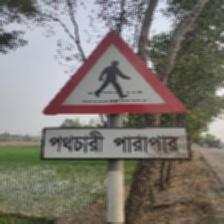Pedestrian-crossing: (39, 31, 191, 159)
